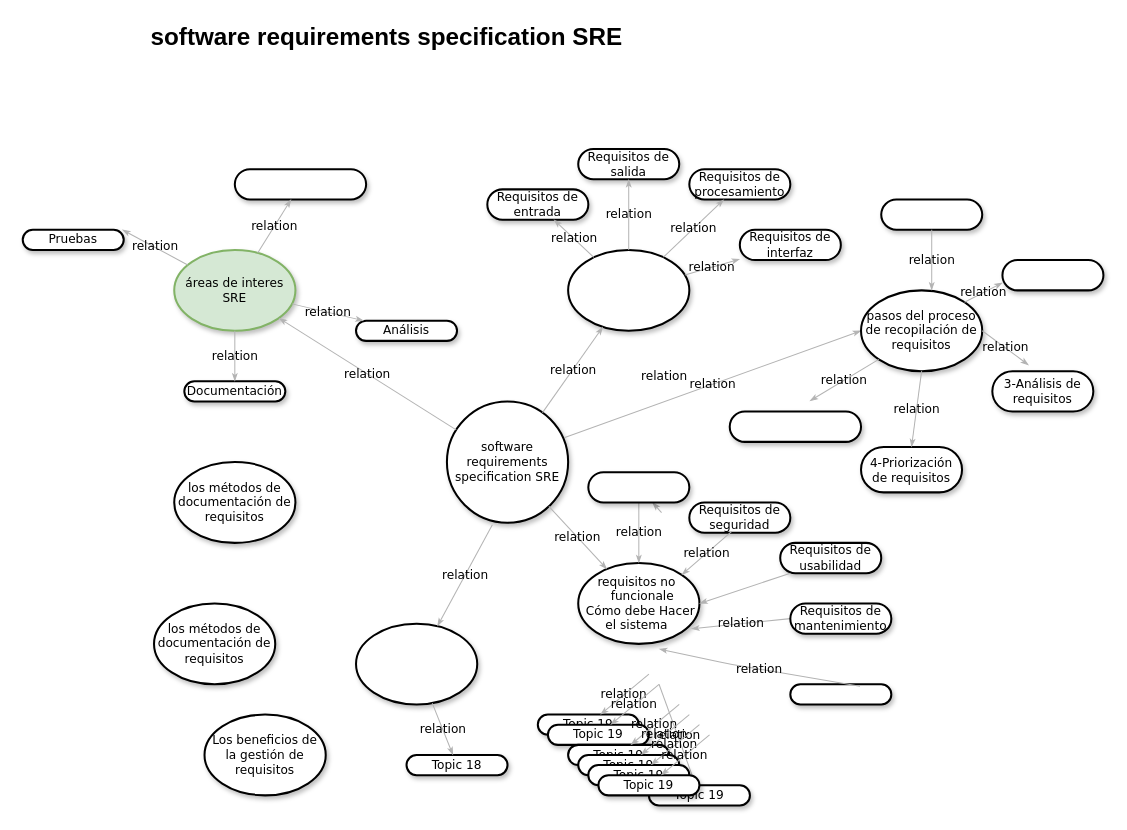
This 1127x830 diagram has some shape labels left out. Here are the shapes that lost their labels. From the top down, the centre of each, then its label:
At pixel 301 185: "Comunicación y comprensión".
At pixel 932 215: "1.Definición de alcance".
At pixel 629 291: "requisitos funcionales Qué debe hacer el sistema".
At pixel 1053 276: "2- Recolección de requisitos".
At pixel 796 427: "5- Documentación de requisitos".
At pixel 639 488: "Requisitos de rendimiento".
At pixel 417 665: "las técnicas de recopilación de requisitos".
At pixel 841 695: "Topic 20".
